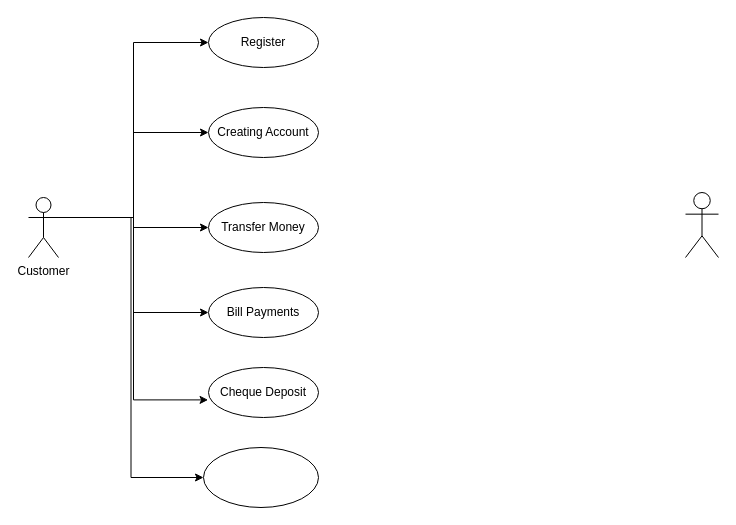
Image size: 736x525. Some labels were removed from this diagram. The centre of each missing label's shape, as x and y in pixels:
"Bank" belongs at point (701, 225).
"Log in" belongs at point (260, 477).
